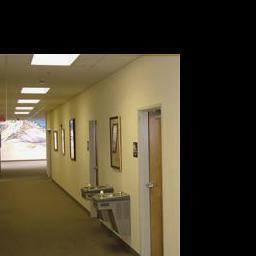Lavamanos: (95, 190, 132, 242), (79, 181, 121, 193)
Puerta: (146, 110, 165, 256)
